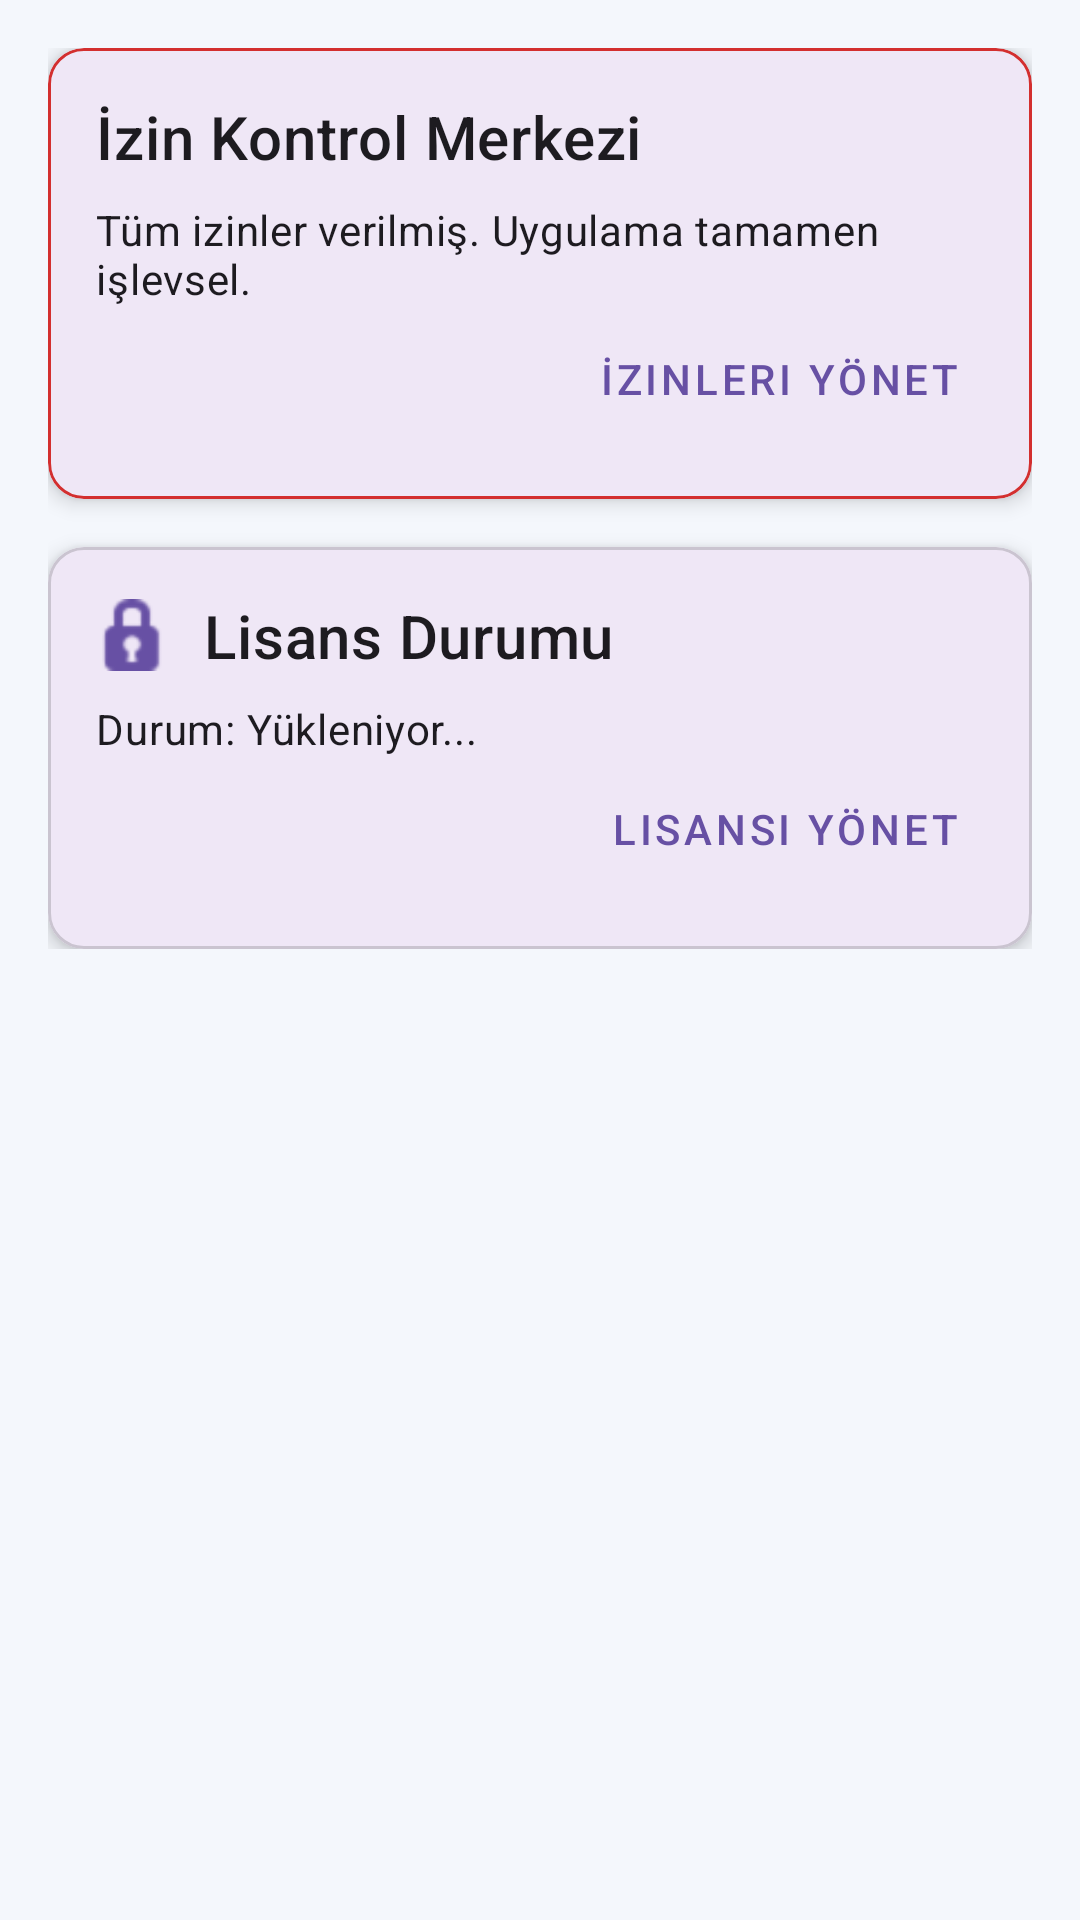

Icons on this 1080px×1920px Android screen, each with the point to tap as (x=x, y=y):
secure: (x=132, y=635)
